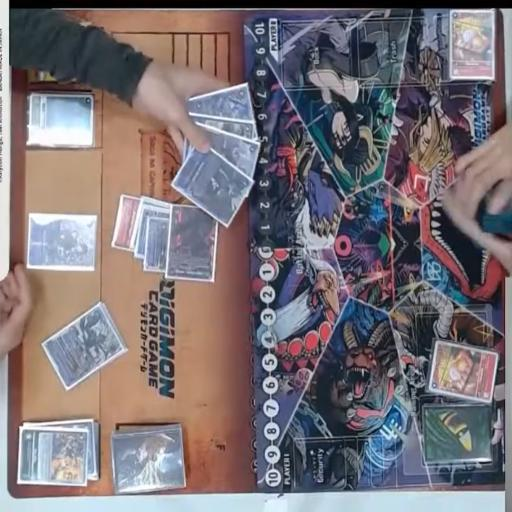card: (41, 305, 128, 387), (176, 148, 256, 234), (24, 210, 98, 271), (183, 128, 261, 185), (426, 342, 499, 402), (164, 203, 218, 284), (27, 90, 98, 148), (18, 430, 88, 484), (447, 11, 499, 82), (173, 80, 258, 123), (132, 208, 176, 260), (181, 116, 256, 142), (114, 195, 146, 249), (144, 220, 174, 271)
